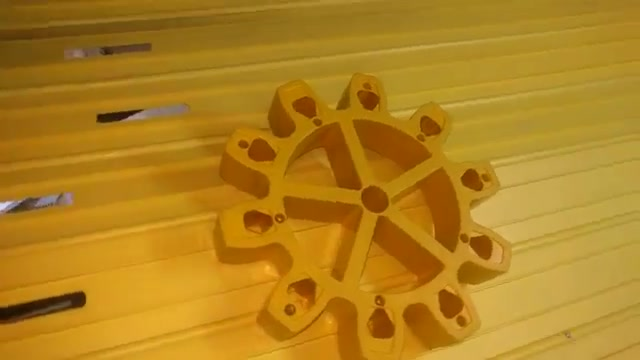gear: (181, 58, 527, 355)
